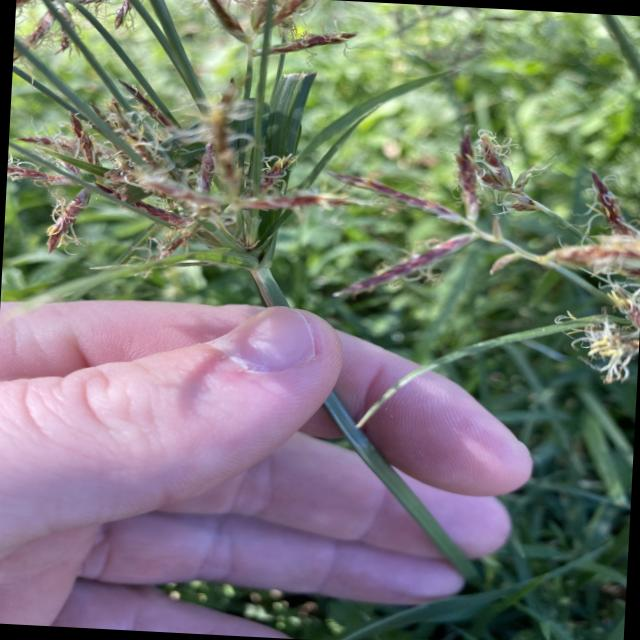cyperus: (3, 0, 357, 265), (347, 121, 640, 362)
